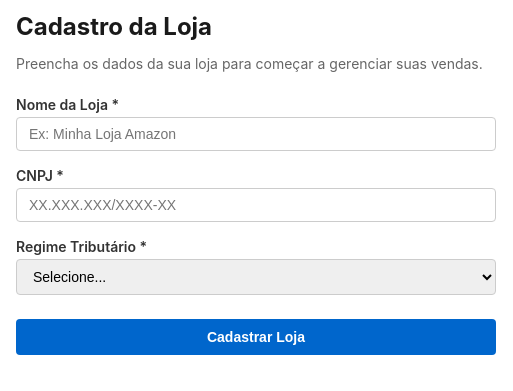
Test case: SetupStorePage › displays backend validation errors per field
In the field labelled "Nome da Loja *": [256, 134] box [16,117,496,151], type "Minha Loja"
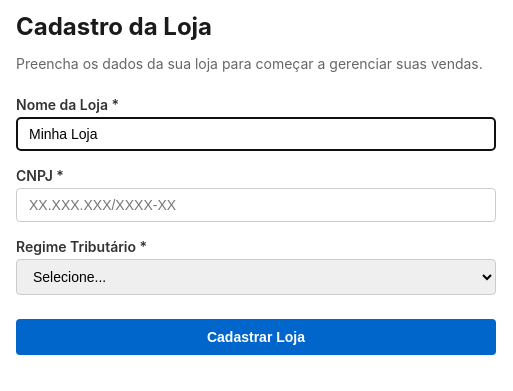
In the field labelled "CNPJ *": [256, 205] box [16,188,496,222], type "11222333000181"
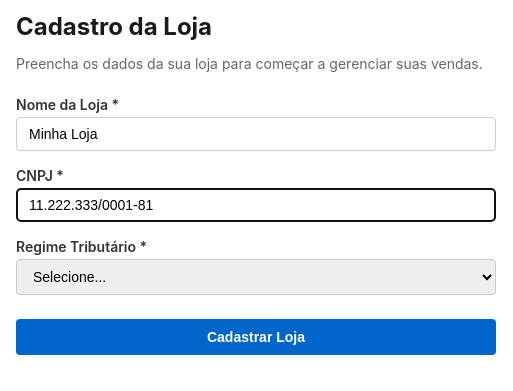
Select "MEI" in the dropdown labelled "Regime Tributário *": [256, 277] box [16,259,496,295]
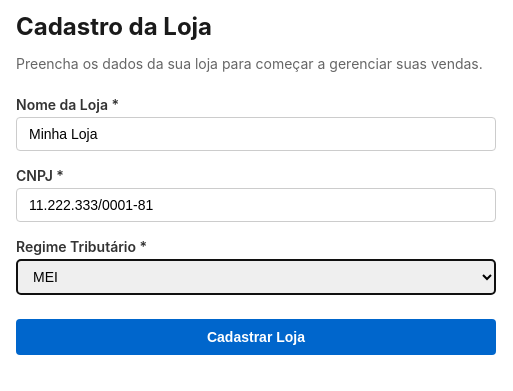
Click the button "Cadastrar Loja": [256, 337] box [16,319,496,355]
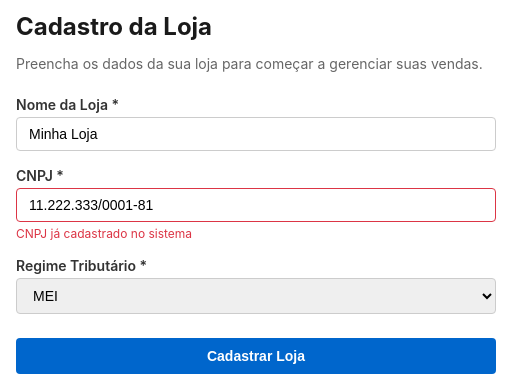
Result: the text "CNPJ já cadastrado no sistema" is shown at [16,226,192,241]
